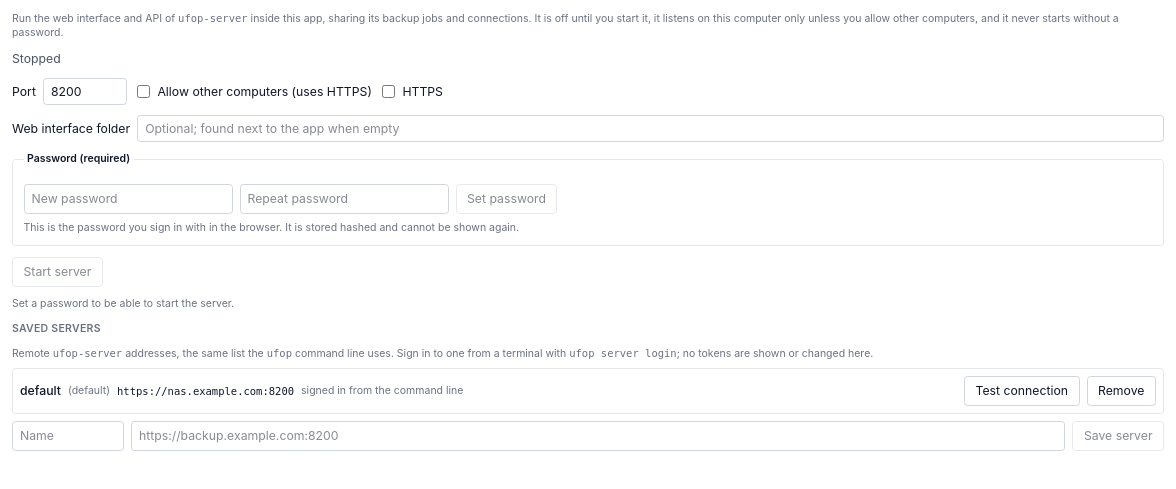
Test: Local web server › cannot be started until a password is set, and the password must be confirmed
Expected: the message with test id "local-server-status" reads "Stopped", [12,51,61,66]
Expected: the button "Start server" is disabled, [12,256,103,286]
Type "short" into the password field labelled "New password" at (128, 198), box [24,184,232,214]
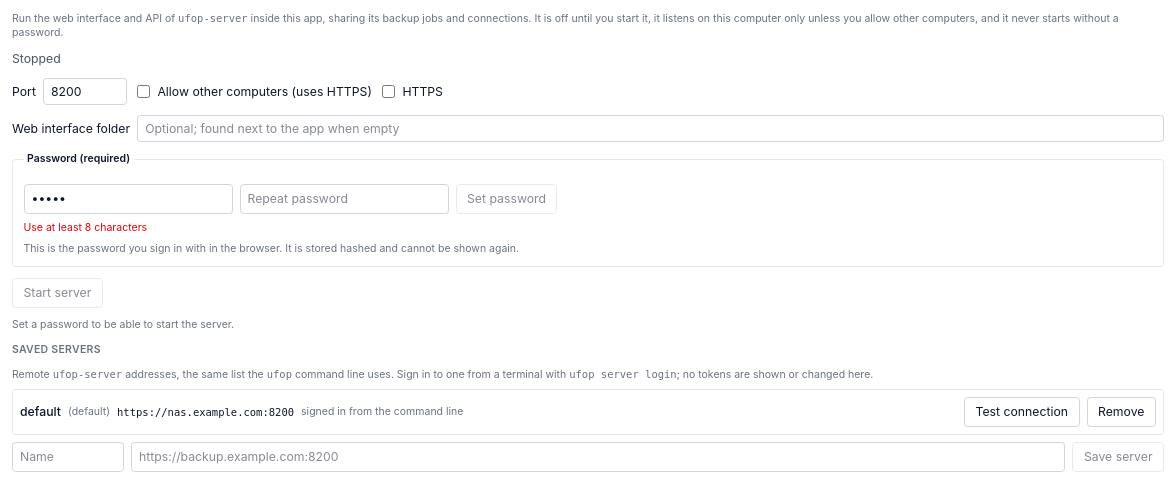
Expected: the button "Set password" is disabled, [456,184,558,214]
Expected: the text "Use at least 8 characters" is shown, [24,220,147,234]
Type "correct horse battery" into the password field named "New password" at (128, 198), box [24,184,232,214]
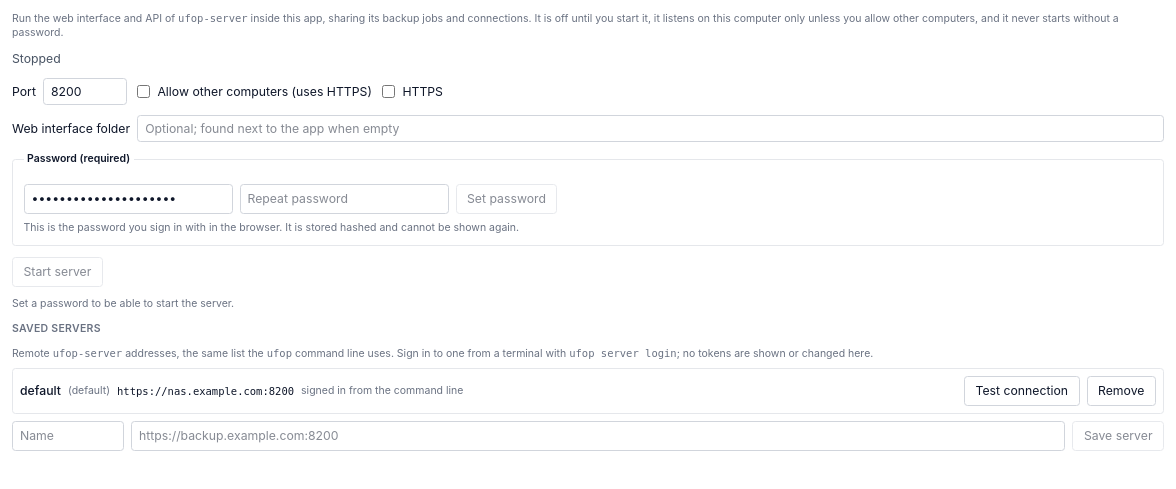
Type "correct horse" into the password field labelled "Repeat password" at (344, 198), box [240,184,448,214]
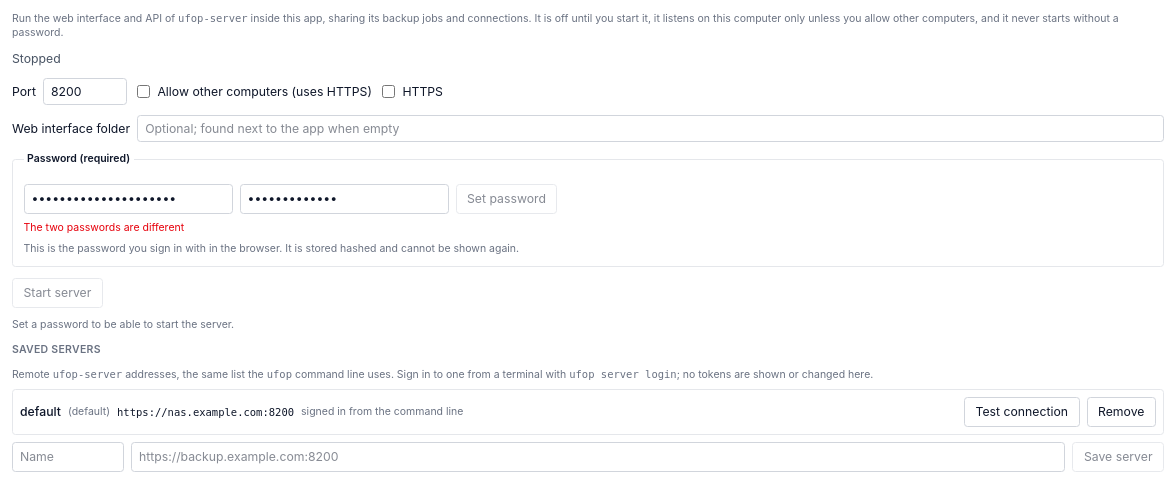
Expected: the button "Set password" is disabled, [456,184,558,214]
Expected: the text "The two passwords are different" is shown, [24,220,184,234]
Type "correct horse battery" into the password field named "Repeat password" at (344, 198), box [240,184,448,214]
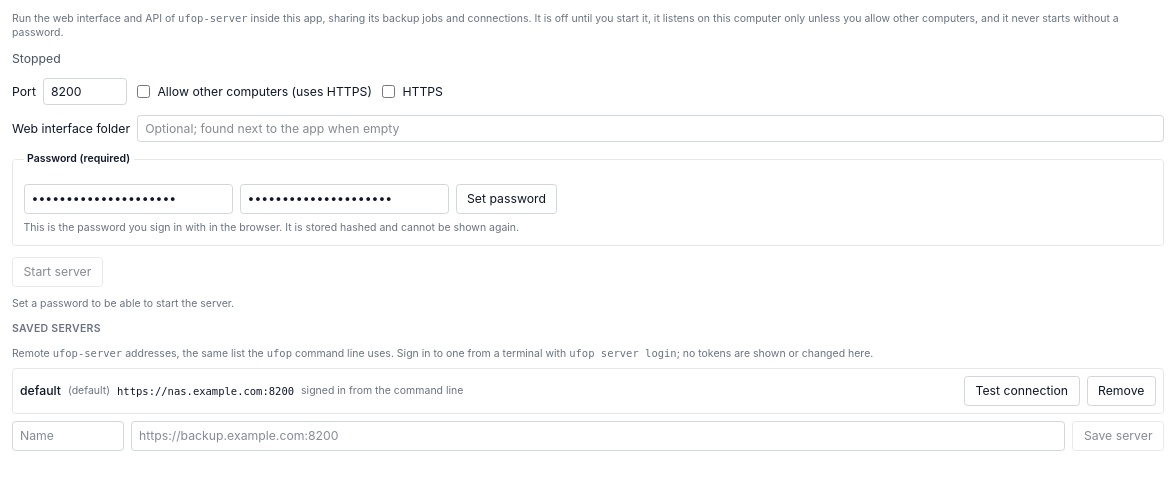
Click the button "Set password" at (506, 198), box [456,184,558,214]
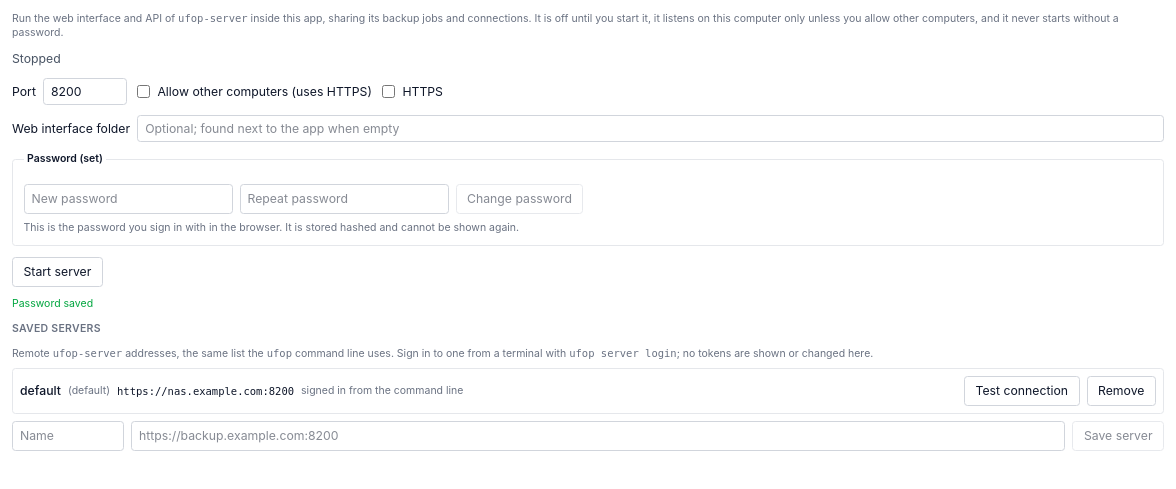
Expected: the button "Start server" is enabled, [12,256,103,286]
Expected: the password field labelled "New password" is empty, [24,184,232,214]
